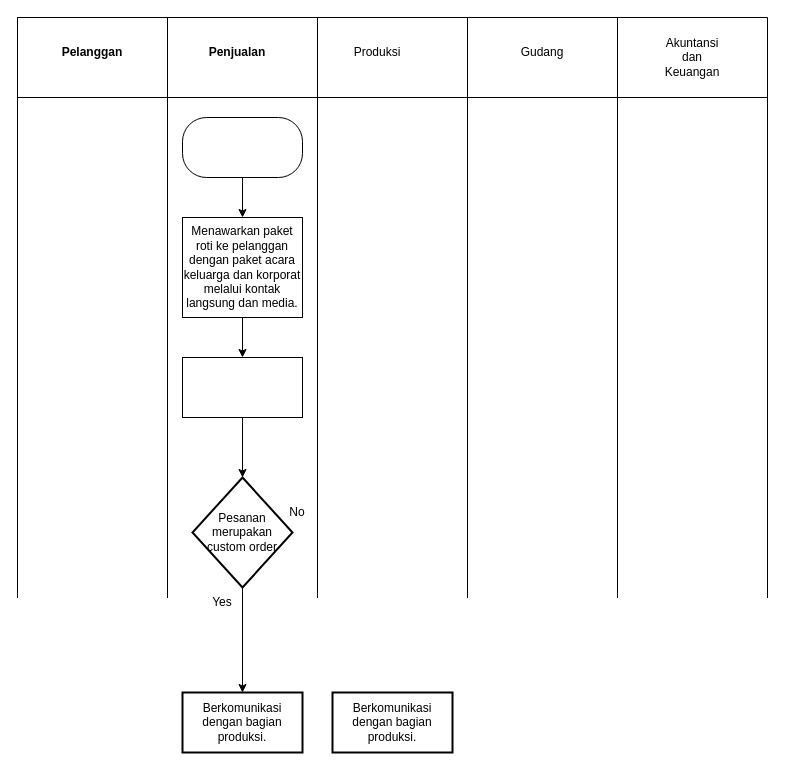
Some shapes in this 785 by 771 pixel diagram are drawn without their labels. Each missing label, with the centre of its shape:
"Membuat berbagai paket roti." goes at pixel 242 147.
"Menawarkan paket roti ke pelanggan." goes at pixel 242 387.
